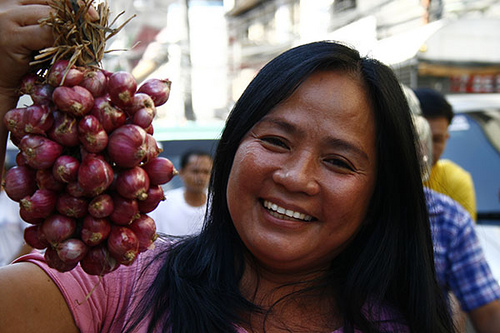onion: (109, 125, 153, 170), (106, 225, 140, 265), (138, 76, 173, 109), (145, 156, 181, 185)
